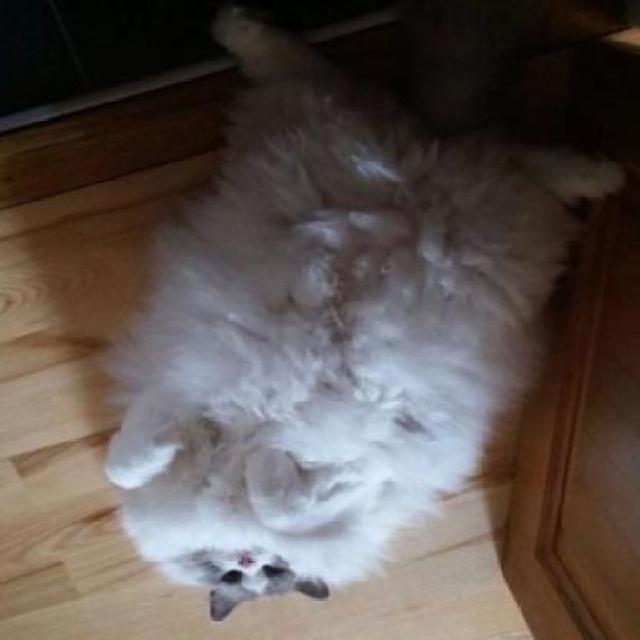cat: (126, 129, 516, 613)
